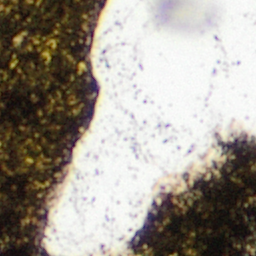cement_matrix: (0, 0, 103, 255), (132, 139, 255, 255)
gravel_crushed_stones: (41, 0, 255, 255)
